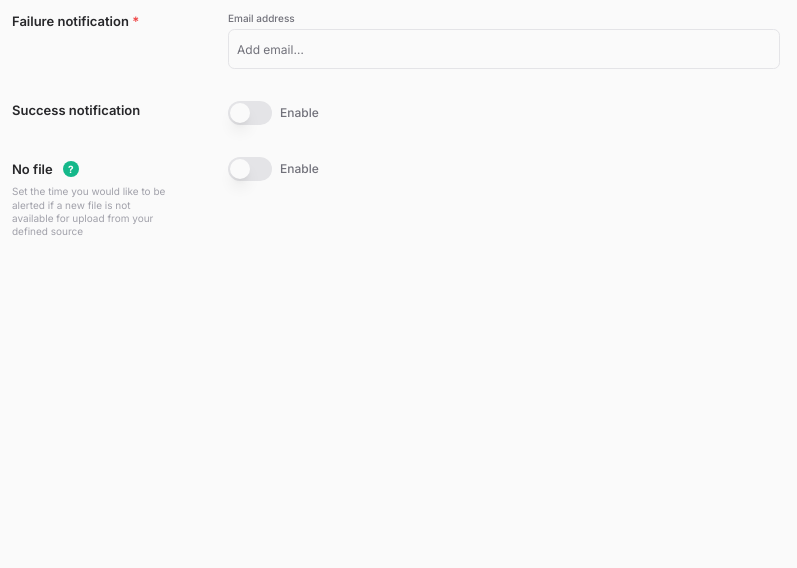
NotificationsStep — No File frequency-specific content › shows Pattern and On the sections for Monthly frequency
Click the switch named "Enable" in the row of "No file".
click(250, 169)  # box [228,157,272,181]
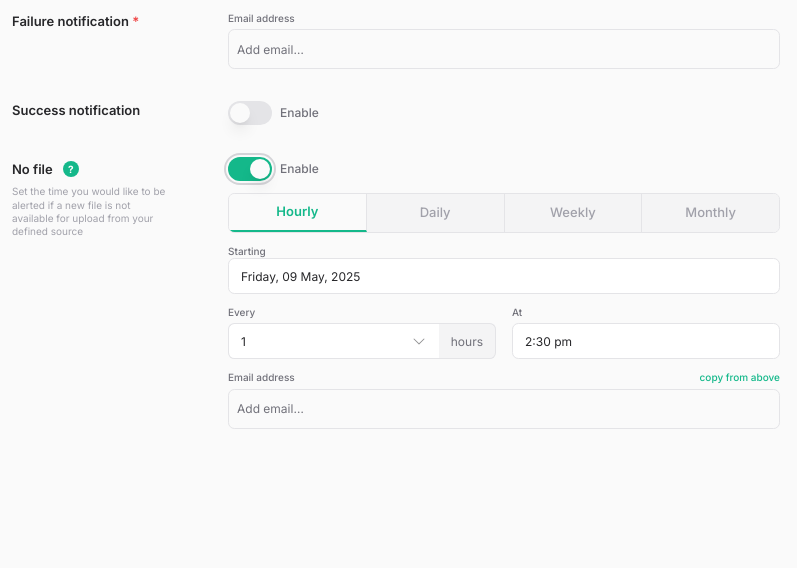
Click the radio button labelled "Monthly".
click(711, 213)  # box [642,194,779,232]
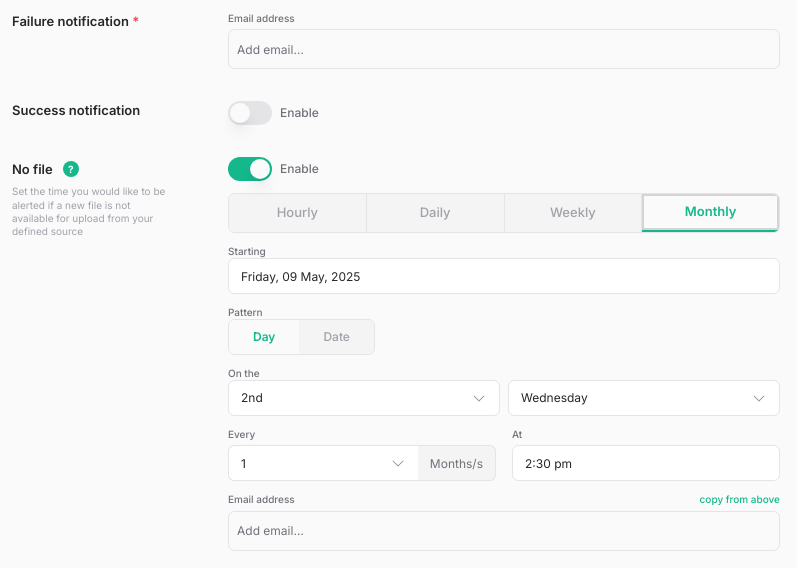
Expected: the text "Pattern" is shown, [228,306,263,318]
Expected: the button "Day" is shown, [229,320,299,354]
Expected: the button "Date" is shown, [299,320,374,354]
